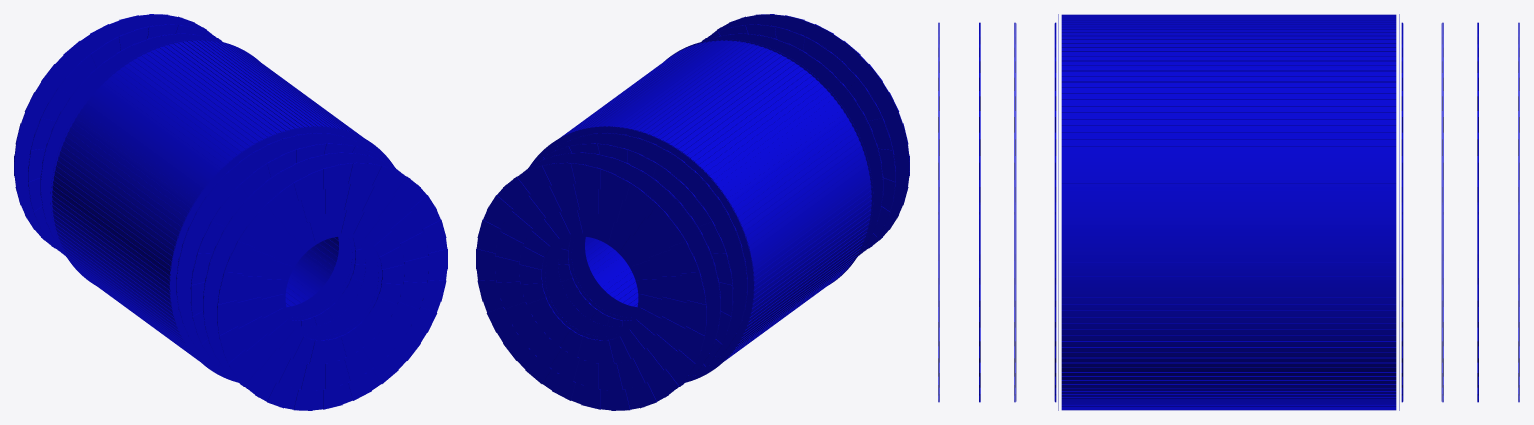
File: OuterTrackers.gltf
The picture shows the model from 3 angles, left to right: view 1: azimuth 30°, elevation 25°; view 2: azimuth 150°, elevation 25°; view 3: azimuth 270°, elevation 25°; orthographic projection. The views are drawn at different scales.
Visible parts, largest first — view 1: OuterTrackers; view 2: OuterTrackers; view 3: OuterTrackers.
Boxes of the visible parts, box(x1,y1,x2,y2) form: OuterTrackers: box(14, 14, 447, 410); OuterTrackers: box(476, 14, 909, 410); OuterTrackers: box(938, 14, 1519, 410).
Bounding box in the file's own units: 2999 × 2999 × 4391.
